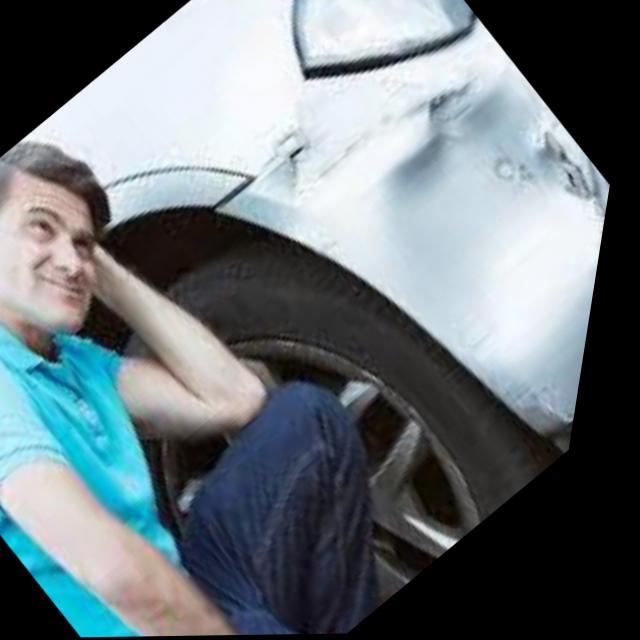dent: (239, 54, 611, 429)
